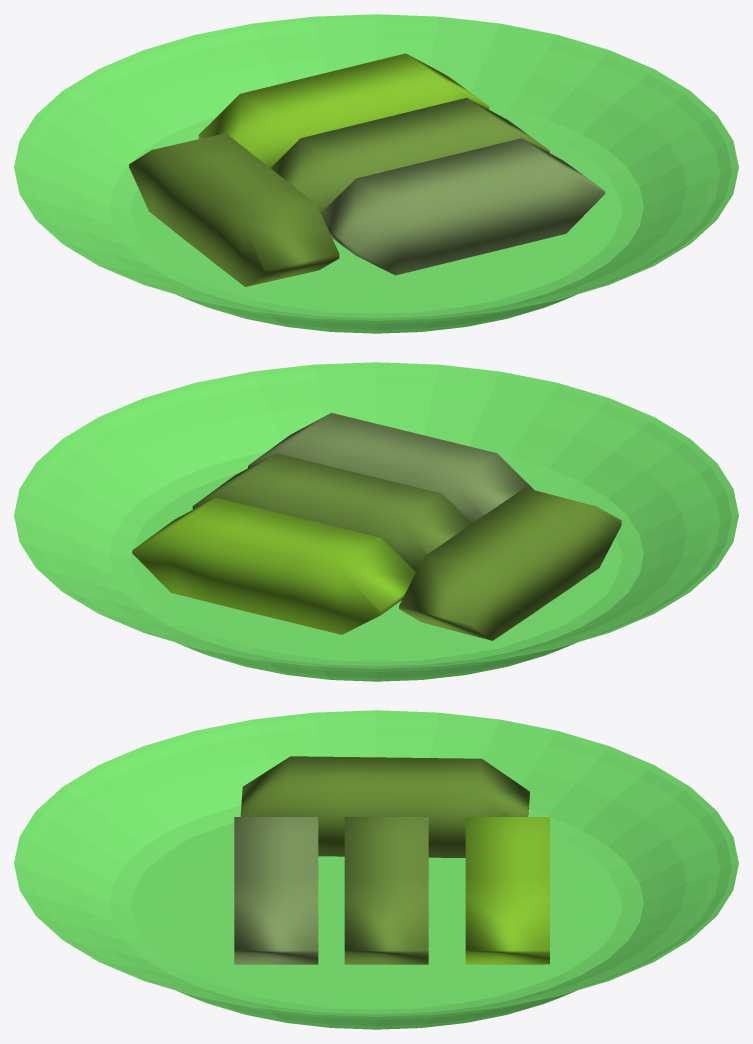
The model's file is KUE KETIMUS'.fbx.
3 views of the same model, one above another, from view 1: azimuth 30°, elevation 25°; view 2: azimuth 150°, elevation 25°; view 3: azimuth 270°, elevation 25° (orthographic).
Visible parts, largest first — view 1: Cylinder, Cube.002, Cube.003, Cube, Cube.001; view 2: Cylinder, Cube, Cube.003, Cube.001, Cube.002; view 3: Cylinder, Cube.003, Cube, Cube.001, Cube.002.
Part boxes in pixels (x1=…): Cylinder: x1=14, y1=14, x2=738, y2=333; Cube.002: x1=321, y1=138, x2=605, y2=275; Cube.003: x1=129, y1=133, x2=339, y2=286; Cube: x1=198, y1=53, x2=489, y2=167; Cube.001: x1=271, y1=98, x2=549, y2=212; Cylinder: x1=14, y1=362, x2=738, y2=681; Cube: x1=132, y1=497, x2=415, y2=634; Cube.003: x1=399, y1=488, x2=621, y2=640; Cube.001: x1=192, y1=453, x2=471, y2=571; Cube.002: x1=248, y1=413, x2=533, y2=523; Cylinder: x1=14, y1=710, x2=738, y2=1029; Cube.003: x1=240, y1=756, x2=529, y2=857; Cube: x1=465, y1=817, x2=549, y2=964; Cube.001: x1=344, y1=817, x2=428, y2=964; Cube.002: x1=234, y1=817, x2=318, y2=964.
Size of the model in its own units: 231 by 29.63 by 231.
